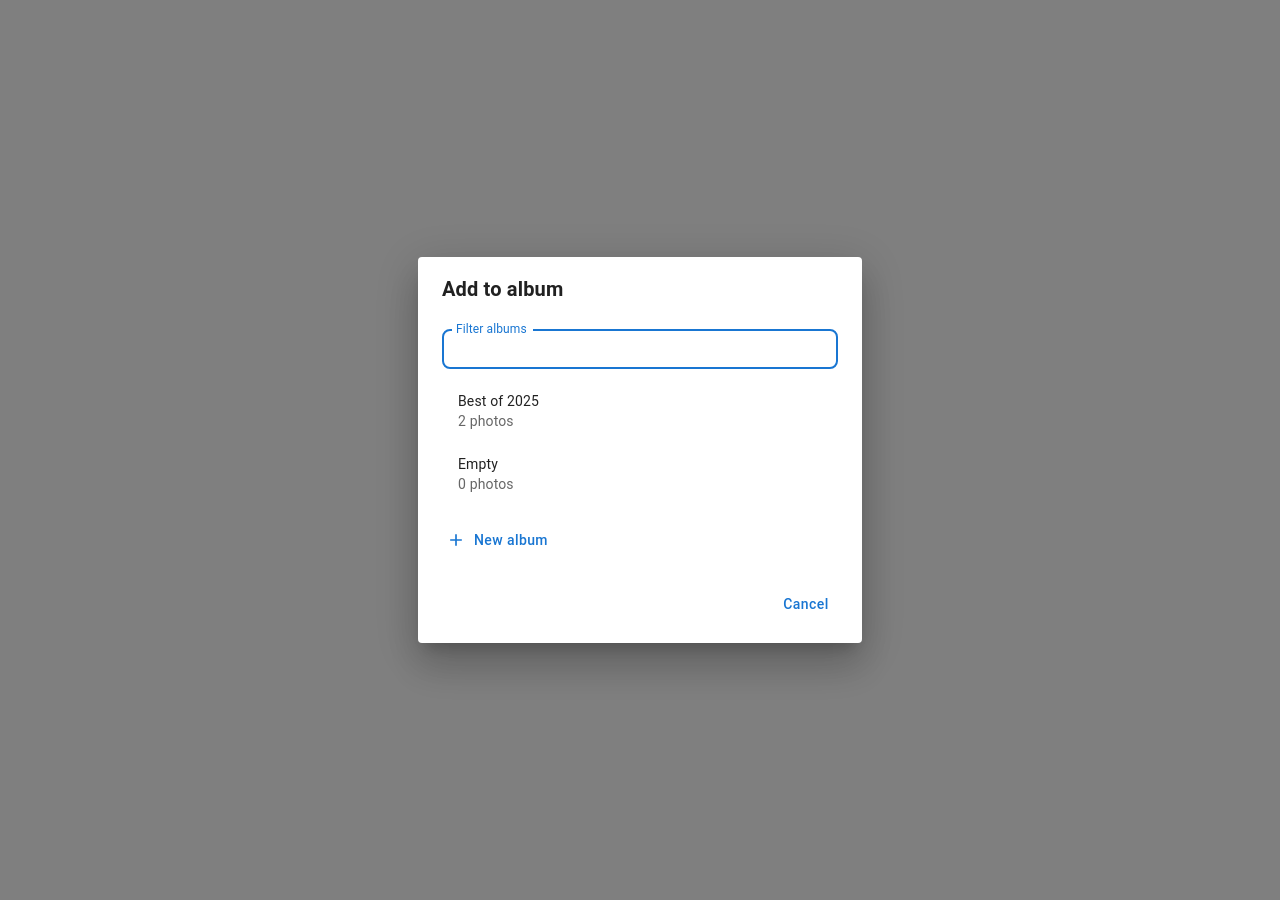
Test case: AlbumPicker › says when the album no longer exists, and stays open
Click the button "Best of 2025 2 photos": click(498, 412) x1=458 y1=394 x2=539 y2=430
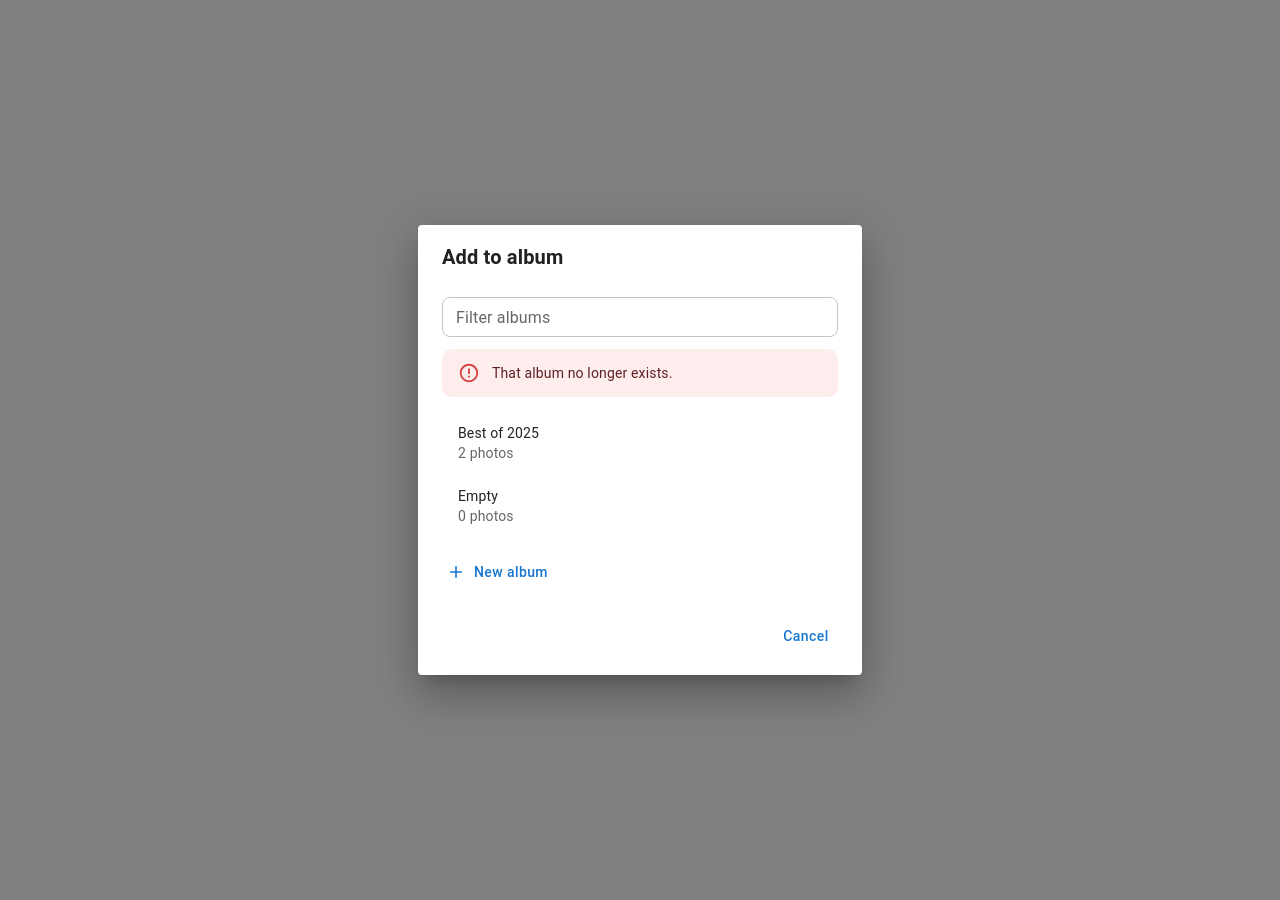
Expected: the dialog "Add to album" is shown, x1=418 y1=226 x2=862 y2=675
Now the text "That album no longer exists." is shown, box x1=492 y1=366 x2=673 y2=382
